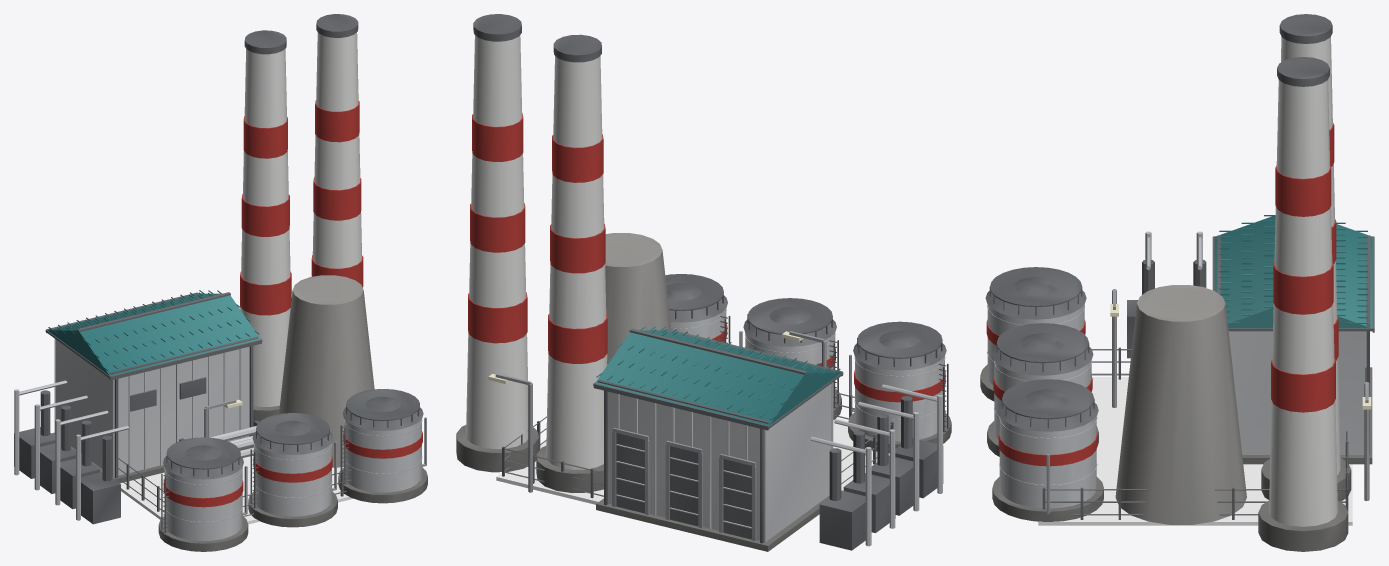
The model's file is Power_P3.fbx.
3 views of the same model, side by side, from view 1: azimuth 30°, elevation 25°; view 2: azimuth 150°, elevation 25°; view 3: azimuth 270°, elevation 25° (orthographic). The views are drawn at different scales.
Parts seen in each view (by area): view 1: Power.Hall, Power.Stack0, Power.Stack1, Power.CoolingTowers, Power.Tank0, Power.Tank1, Power.Tank2, Power.Switchyard, Power.Yard, Power.Pipes, Power.Fence; view 2: Power.Hall, Power.Stack1, Power.Stack0, Power.Switchyard, Power.Tank0, Power.CoolingTowers, Power.Tank1, Power.Tank2, Power.Yard, Power.Fence, Power.Lamp1; view 3: Power.Stack1, Power.CoolingTowers, Power.Hall, Power.Tank2, Power.Tank0, Power.Tank1, Power.Yard, Power.Stack0, Power.Fence, Power.Switchyard, Power.Lamp1, Power.Lamp0.
Part boxes in pixels (x1,y1,x2,y2): Power.Hall: (45, 290, 262, 483); Power.Stack0: (240, 30, 291, 425); Power.Stack1: (311, 14, 363, 287); Power.CoolingTowers: (279, 275, 374, 467); Power.Tank0: (158, 437, 248, 551); Power.Tank1: (248, 413, 337, 527); Power.Tank2: (338, 389, 427, 503); Power.Switchyard: (14, 380, 128, 524); Power.Yard: (120, 456, 353, 524); Power.Pipes: (179, 420, 259, 457); Power.Fence: (118, 458, 351, 516); Power.Hall: (593, 326, 843, 551); Power.Stack1: (456, 14, 538, 472); Power.Stack0: (536, 34, 607, 492); Power.Switchyard: (810, 384, 943, 550); Power.Tank0: (848, 321, 951, 453); Power.CoolingTowers: (605, 233, 671, 364); Power.Tank1: (739, 298, 841, 419); Power.Tank2: (665, 274, 730, 343); Power.Yard: (496, 418, 889, 504); Power.Fence: (502, 392, 893, 498); Power.Lamp1: (488, 373, 532, 492); Power.Stack1: (1258, 57, 1348, 551); Power.CoolingTowers: (1115, 285, 1246, 524); Power.Hall: (1212, 215, 1374, 464); Power.Tank2: (992, 379, 1103, 521); Power.Tank0: (980, 267, 1091, 401); Power.Tank1: (987, 323, 1098, 456); Power.Yard: (1038, 377, 1352, 525); Power.Stack0: (1261, 14, 1351, 501); Power.Fence: (1042, 347, 1348, 519); Power.Switchyard: (1127, 231, 1206, 358); Power.Lamp1: (1362, 382, 1371, 500); Power.Lamp0: (1110, 289, 1118, 407).
Bounding box in the file's own units: 3568 × 3621 × 2761.
